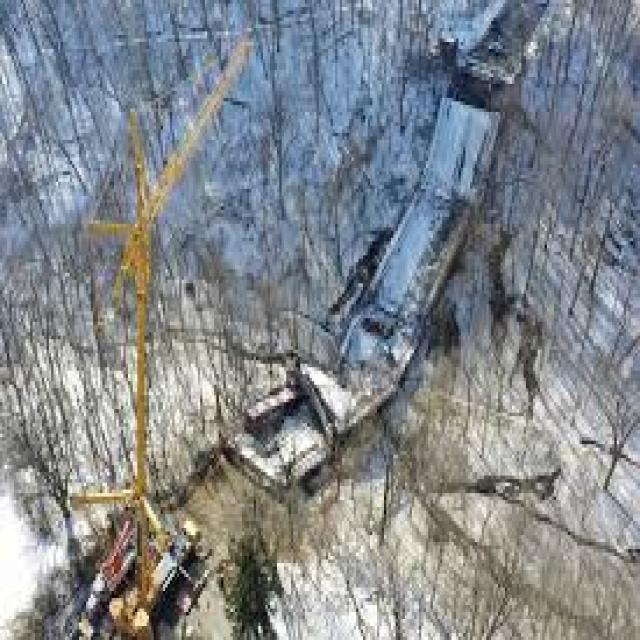bridge collapse: (110, 15, 542, 640)
